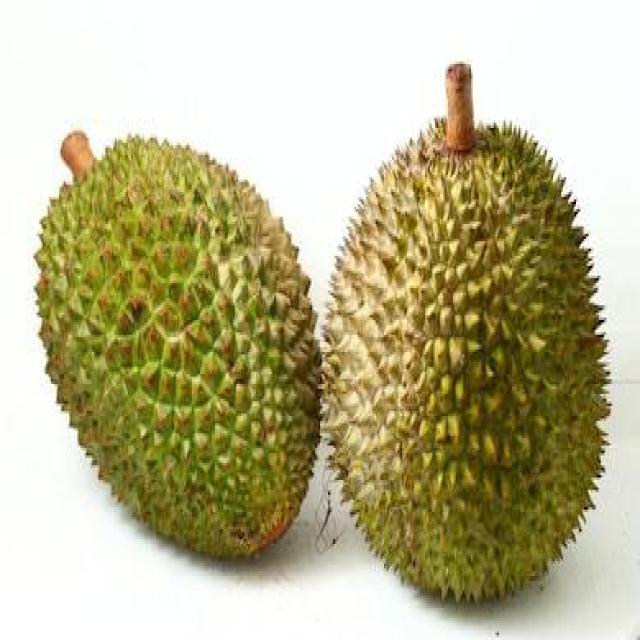mature: (36, 110, 610, 600)
